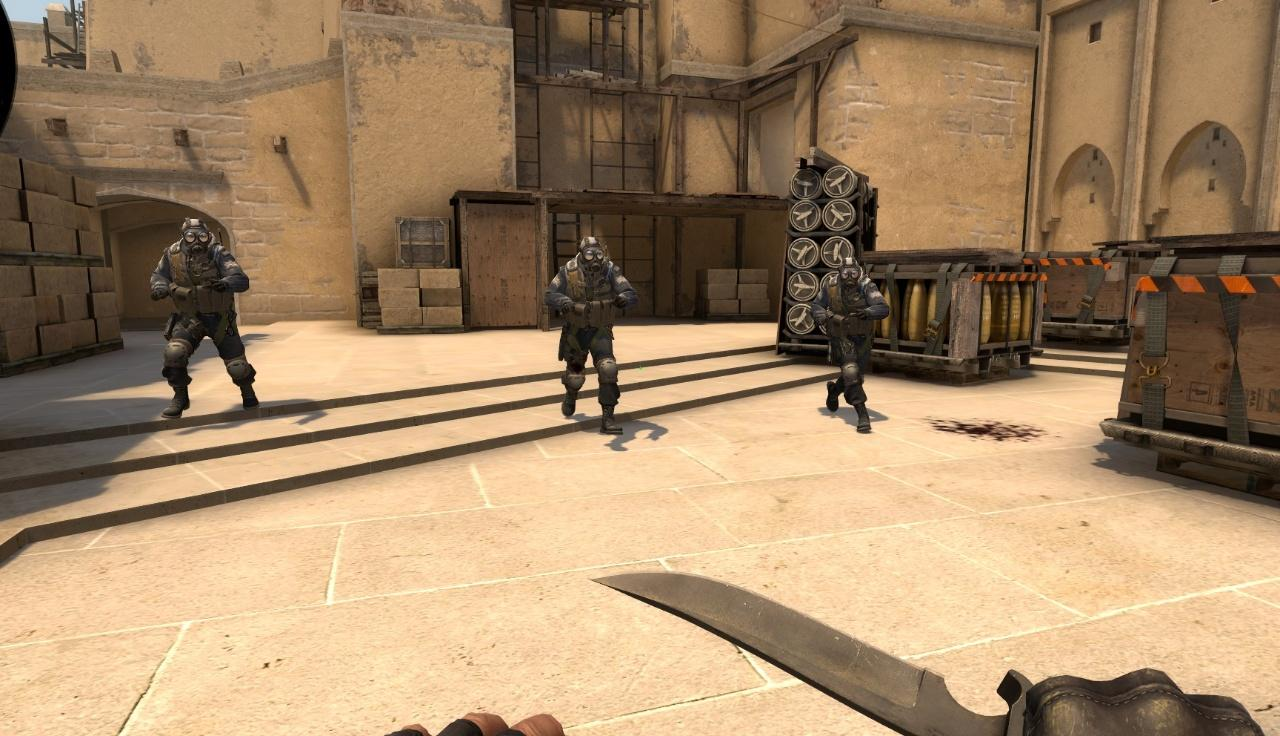ct: (151, 220, 263, 424), (546, 237, 637, 435), (812, 258, 889, 431)
cthead: (179, 218, 211, 257), (577, 236, 606, 271), (835, 258, 864, 288)
